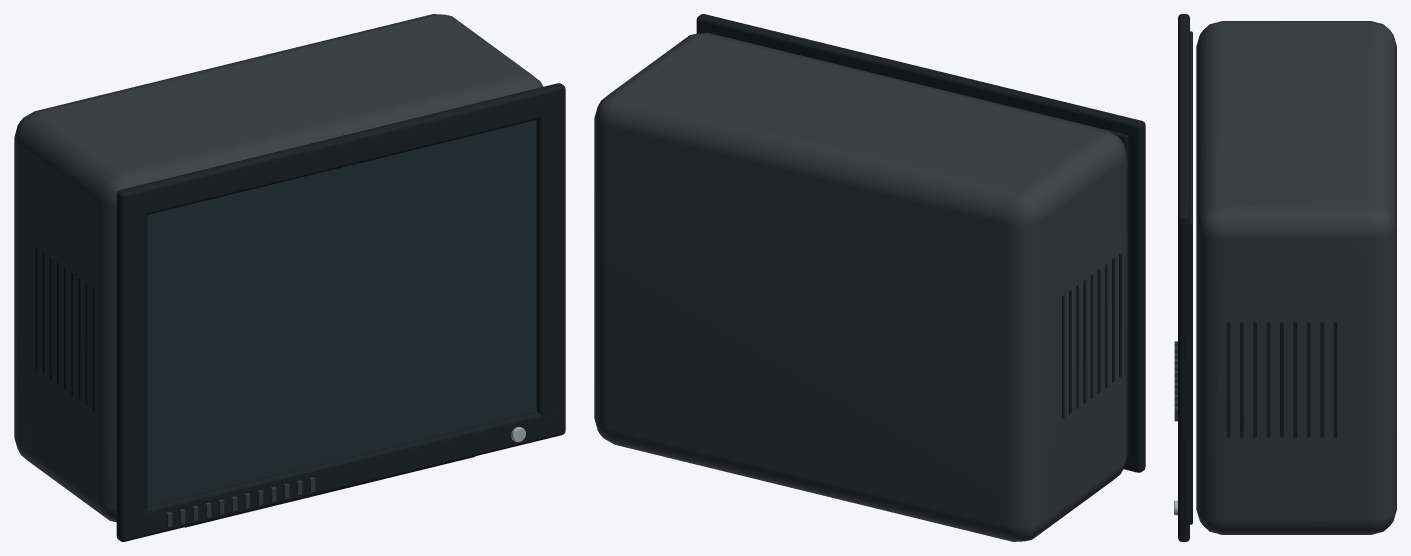
File: tv-crt.glb
3 views of the same model, side by side, from view 1: azimuth 30°, elevation 25°; view 2: azimuth 150°, elevation 25°; view 3: azimuth 270°, elevation 25° (orthographic). The views are drawn at different scales.
Visible parts, largest first — view 1: tv-crt_Shell, Display_Surface; view 2: tv-crt_Shell; view 3: tv-crt_Shell.
Boxes of the visible parts, bbox=[...] form: tv-crt_Shell: bbox=[14, 14, 565, 541]; Display_Surface: bbox=[147, 120, 536, 505]; tv-crt_Shell: bbox=[594, 14, 1145, 541]; tv-crt_Shell: bbox=[1174, 14, 1396, 541].
Size of the model in its own units: 3.62 by 2.8 by 1.67.
